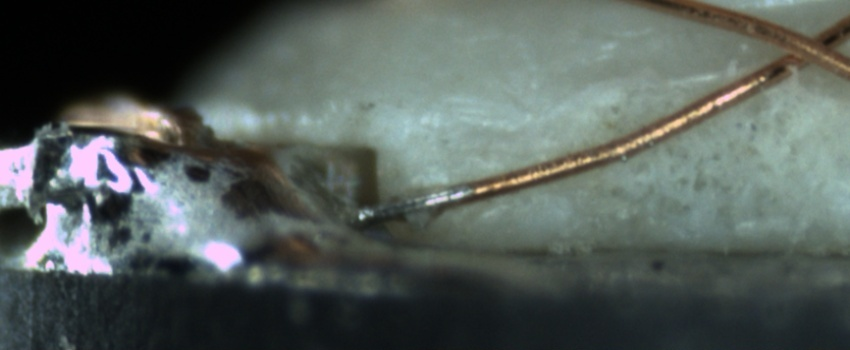CL: (757, 13, 846, 80)
DL: (438, 103, 576, 160)
TE: (54, 81, 226, 153)
TS: (351, 180, 473, 228)
